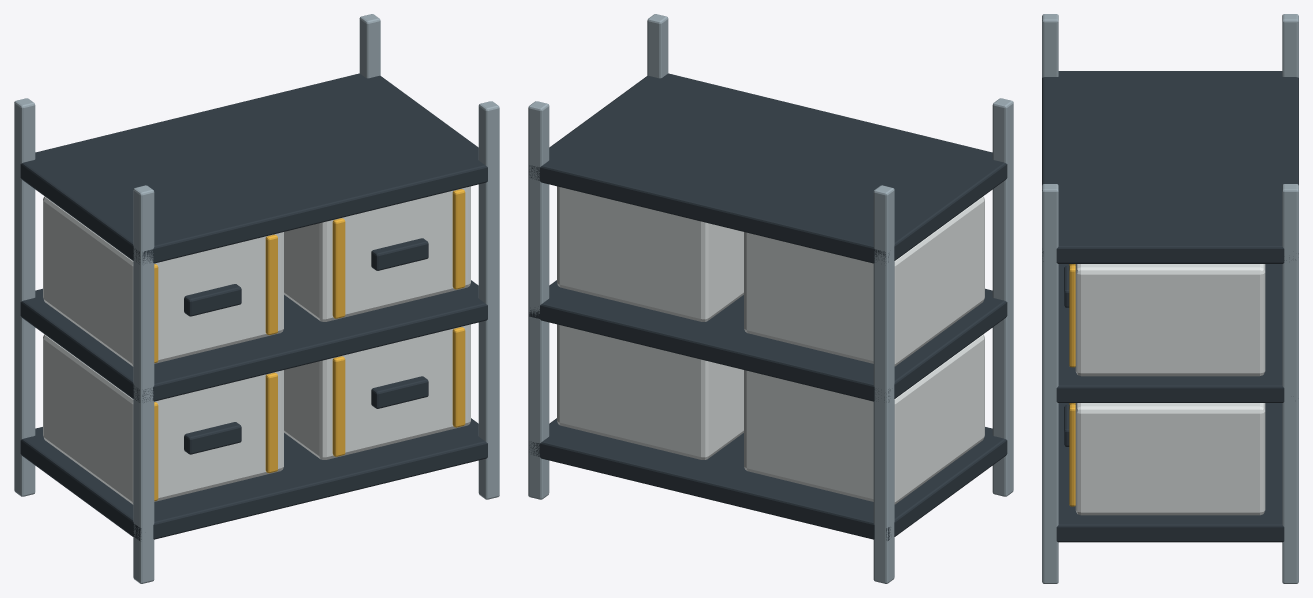
File: cargo-rack.glb
3 renders of one model, left to right at view 1: azimuth 30°, elevation 25°; view 2: azimuth 150°, elevation 25°; view 3: azimuth 270°, elevation 25°, orthographic.
Parts seen in each view (by area): view 1: Shelf.002, Cargo crate.001, Cargo crate, Shelf.001, Shelf, Cargo crate.003, Cargo crate.002, Rack post, Rack post.002, Rack post.001, Tie-down strip.004, Tie-down strip.006 (+9 smaller); view 2: Shelf.002, Cargo crate.001, Cargo crate, Cargo crate.002, Cargo crate.003, Shelf, Shelf.001, Rack post.001, Rack post.003, Rack post, Rack post.002; view 3: Shelf.002, Cargo crate.002, Cargo crate.003, Shelf, Shelf.001, Rack post.002, Rack post.003, Rack post, Rack post.001, Tie-down strip.005, Tie-down strip.007.
Boxes of the visible parts, x1=… form: Shelf.002: x1=20, y1=73, x2=487, y2=264; Cargo crate.001: x1=43, y1=196, x2=283, y2=366; Cargo crate: x1=43, y1=334, x2=283, y2=504; Shelf.001: x1=20, y1=280, x2=487, y2=402; Shelf: x1=20, y1=418, x2=487, y2=540; Cargo crate.003: x1=284, y1=186, x2=470, y2=321; Cargo crate.002: x1=284, y1=324, x2=470, y2=459; Rack post: x1=133, y1=185, x2=154, y2=583; Rack post.002: x1=478, y1=101, x2=499, y2=499; Rack post.001: x1=14, y1=98, x2=35, y2=496; Tie-down strip.004: x1=332, y1=356, x2=345, y2=456; Tie-down strip.006: x1=332, y1=218, x2=345, y2=318; Shelf.002: x1=529, y1=73, x2=1007, y2=263; Cargo crate.001: x1=744, y1=196, x2=984, y2=366; Cargo crate: x1=744, y1=334, x2=984, y2=504; Cargo crate.002: x1=557, y1=324, x2=743, y2=459; Cargo crate.003: x1=557, y1=186, x2=743, y2=321; Shelf: x1=529, y1=418, x2=1007, y2=540; Shelf.001: x1=529, y1=280, x2=1007, y2=402; Rack post.001: x1=873, y1=185, x2=894, y2=583; Rack post.003: x1=528, y1=101, x2=549, y2=499; Rack post: x1=992, y1=98, x2=1013, y2=496; Rack post.002: x1=647, y1=14, x2=668, y2=78; Shelf.002: x1=1042, y1=71, x2=1298, y2=263; Cargo crate.002: x1=1075, y1=403, x2=1265, y2=515; Cargo crate.003: x1=1075, y1=264, x2=1265, y2=376; Shelf: x1=1056, y1=403, x2=1284, y2=542; Shelf.001: x1=1056, y1=264, x2=1284, y2=402; Rack post.002: x1=1042, y1=184, x2=1058, y2=583; Rack post.003: x1=1282, y1=184, x2=1298, y2=583; Rack post: x1=1042, y1=14, x2=1058, y2=77; Rack post.001: x1=1282, y1=14, x2=1298, y2=77; Tie-down strip.005: x1=1069, y1=404, x2=1075, y2=506; Tie-down strip.007: x1=1069, y1=265, x2=1075, y2=367.
Size of the model in its own units: 1.5 by 1.56 by 0.92.
